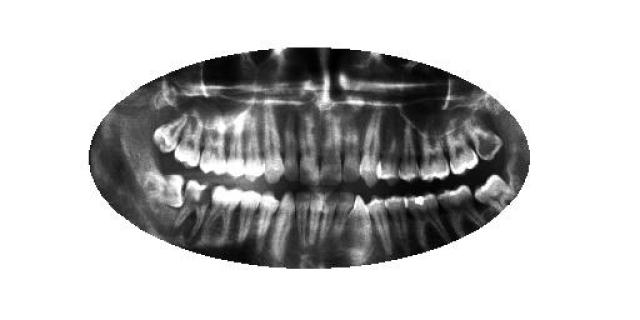Cavity: (174, 180, 215, 240), (465, 115, 504, 161)
Fillings: (405, 194, 450, 251)
Restorations: (138, 172, 184, 208), (474, 175, 515, 211)
